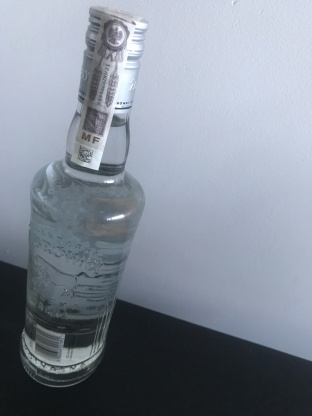nakretka: (76, 3, 150, 117)
